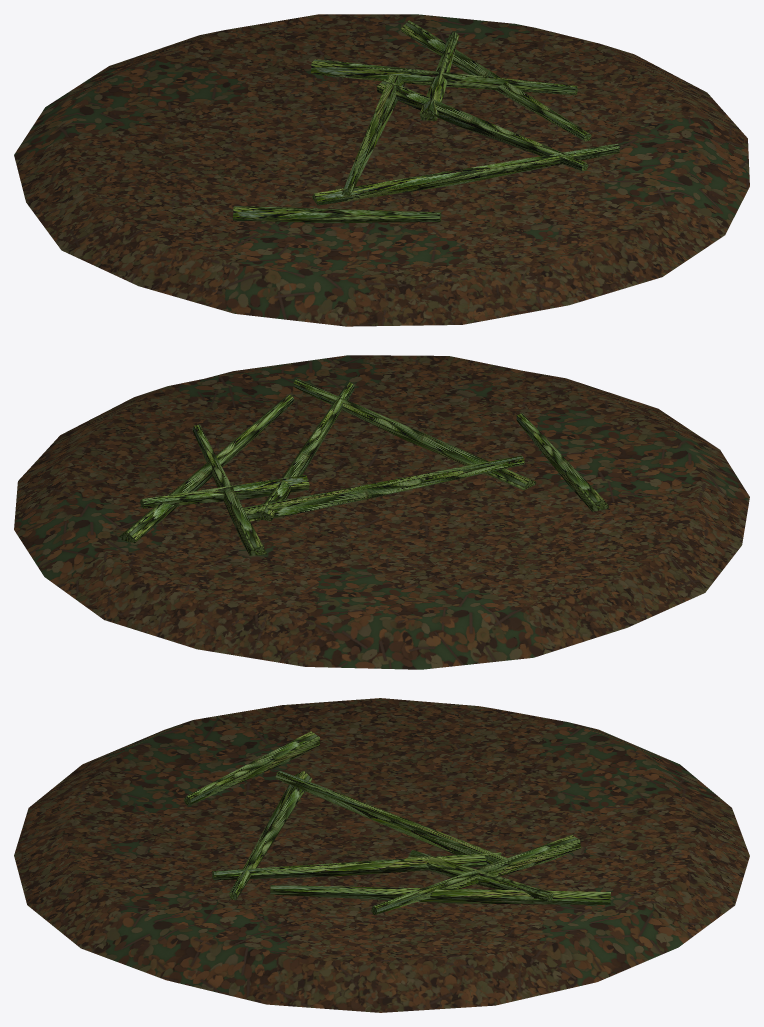
Rendered from leaf-litter-v01.glb.
3 views of the same model, one above another, from view 1: azimuth 30°, elevation 25°; view 2: azimuth 150°, elevation 25°; view 3: azimuth 270°, elevation 25° (orthographic).
Parts seen in each view (by area): view 1: leaf-litter; view 2: leaf-litter; view 3: leaf-litter.
Boxes of the visible parts, box(x1,y1,x2,y2) form: leaf-litter: box(14, 14, 749, 326); leaf-litter: box(14, 355, 749, 669); leaf-litter: box(14, 698, 749, 1012).
Size of the model in its own units: 2.21 by 0.1429 by 2.19.
2 materials, 2 textured.
